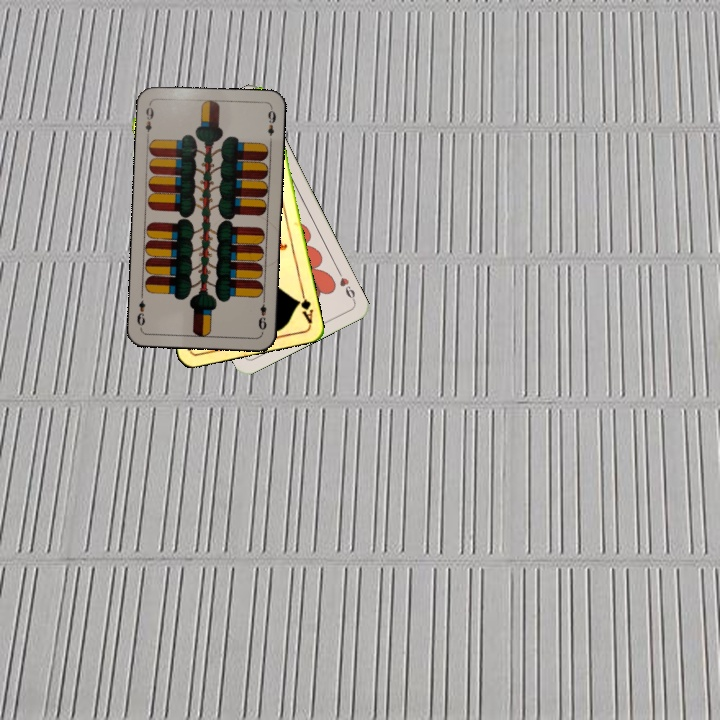E9: (141, 101, 156, 141), (254, 294, 269, 332)
GA: (293, 286, 316, 326)
H9: (333, 266, 358, 304)
